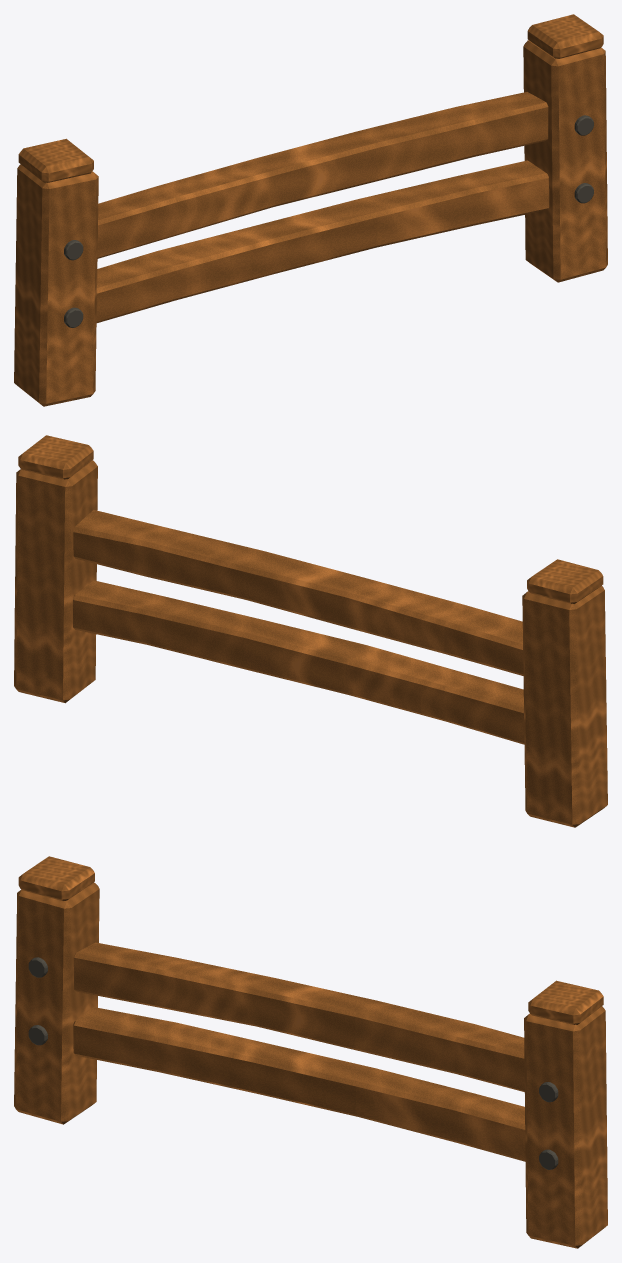
Rendered from Fence.glb.
The picture shows the model from 3 angles, top to bottom: view 1: azimuth 30°, elevation 25°; view 2: azimuth 150°, elevation 25°; view 3: azimuth 330°, elevation 25°; orthographic projection.
Visible parts, largest first — view 1: Fence_Top_Rail, Fence_Bottom_Rail, Fence_Left_Post, Fence_Right_Post, Fence_Right_Post_Cap, Fence_Left_Post_Cap; view 2: Fence_Top_Rail, Fence_Bottom_Rail, Fence_Left_Post, Fence_Right_Post, Fence_Left_Post_Cap, Fence_Right_Post_Cap; view 3: Fence_Top_Rail, Fence_Bottom_Rail, Fence_Right_Post, Fence_Left_Post, Fence_Left_Post_Cap, Fence_Right_Post_Cap.
Boxes of the visible parts, <box> form: Fence_Top_Rail: <box>97,92,548,258</box>; Fence_Bottom_Rail: <box>96,160,549,322</box>; Fence_Left_Post: <box>14,164,98,406</box>; Fence_Right_Post: <box>523,40,607,282</box>; Fence_Right_Post_Cap: <box>527,14,603,58</box>; Fence_Left_Post_Cap: <box>18,138,93,182</box>; Fence_Top_Rail: <box>73,509,523,675</box>; Fence_Bottom_Rail: <box>73,580,524,744</box>; Fence_Left_Post: <box>522,586,607,827</box>; Fence_Right_Post: <box>14,460,97,703</box>; Fence_Left_Post_Cap: <box>527,559,603,603</box>; Fence_Right_Post_Cap: <box>18,435,93,479</box>; Fence_Top_Rail: <box>73,942,524,1091</box>; Fence_Bottom_Rail: <box>73,1007,525,1161</box>; Fence_Right_Post: <box>524,1006,607,1248</box>; Fence_Left_Post: <box>14,882,99,1124</box>; Fence_Left_Post_Cap: <box>18,856,94,900</box>; Fence_Right_Post_Cap: <box>528,980,603,1024</box>.
Size of the model in its own units: 4.31 by 1.73 by 0.4714.
2 materials, 2 textured.
